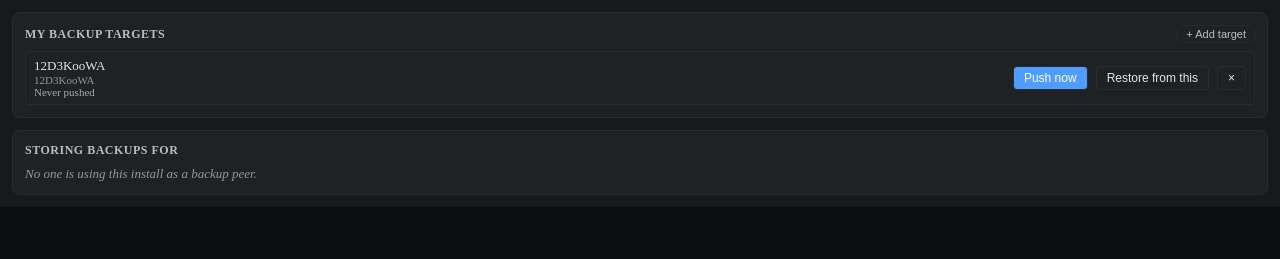
Test: BackupSettings › Push now button surfaces success toast
Step 1. Click the button with test id "backup-push-now-12D3KooWA" → (1050,78), box [1013,66,1088,90]
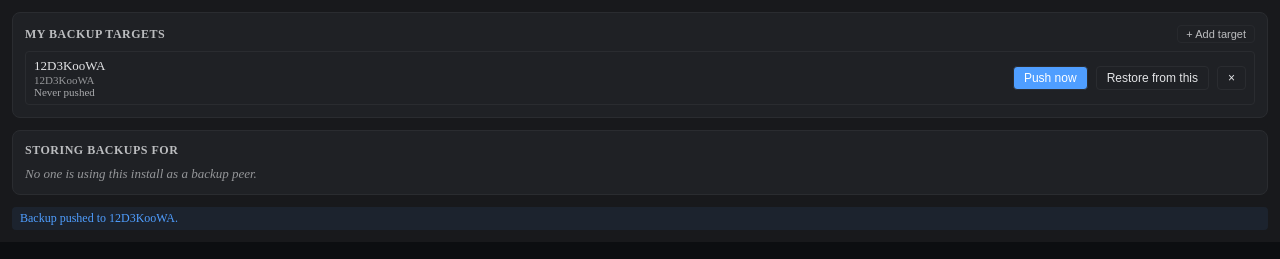
Expected: the text "Backup pushed to 12D3KooWA." is shown, [12,207,1268,230]
Expected: the text with test id "backup-toast" shows "Backup pushed", [20,211,178,225]
